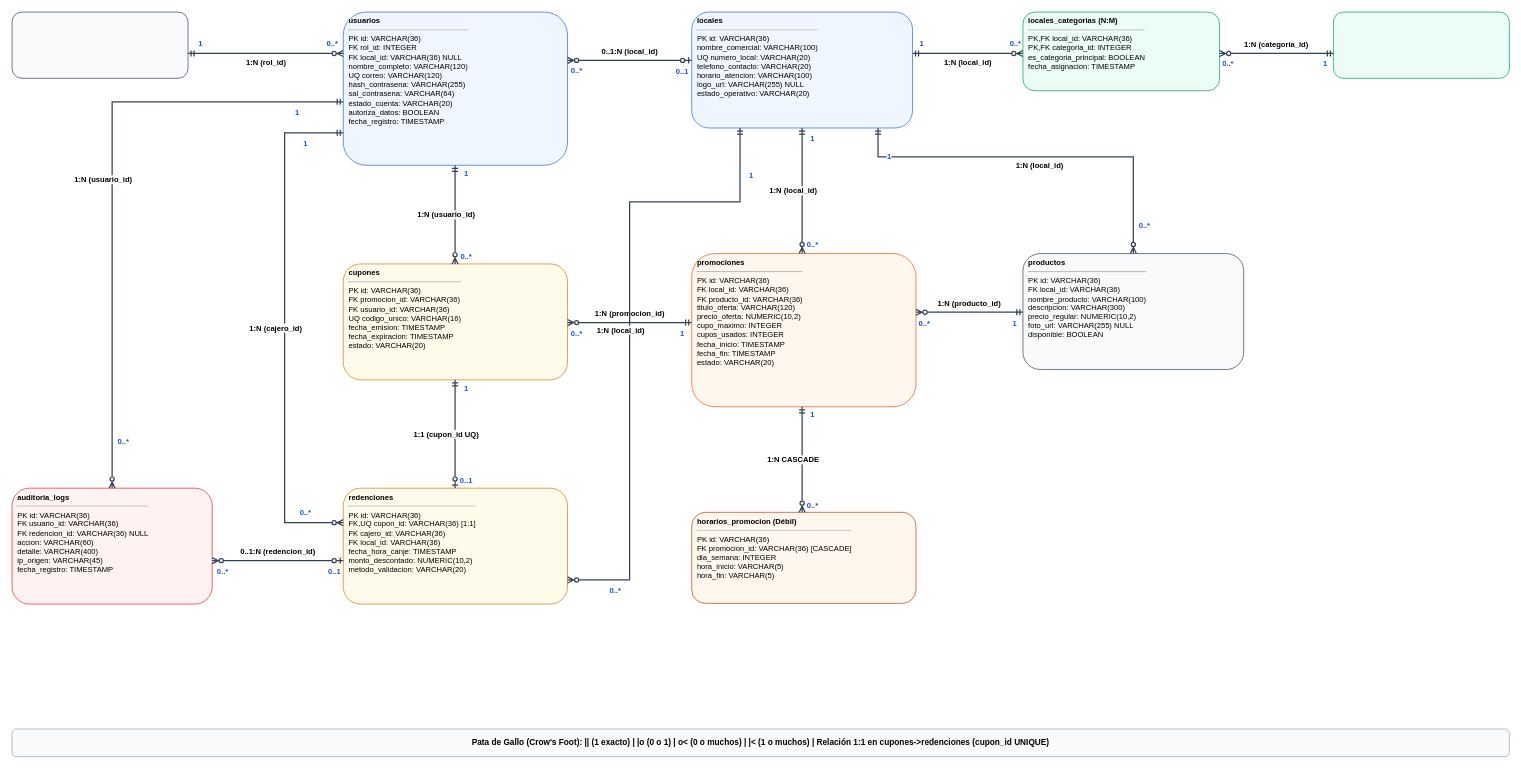
The diagram is 1521 pixels wide and 769 high, and some of its shapes have lost their labels. The shapes that lost their labels are listed below. From the top down, each one's box as (x1, y1, x2, y2) in pixels, then its label:
(11, 11, 188, 78): roles PK id: INTEGER UQ nombre: VARCHAR(30) descripcion: VARCHAR(150)
(1333, 11, 1509, 78): categorias PK id: INTEGER UQ nombre_categoria: VARCHAR(60) icono: VARCHAR(80)
